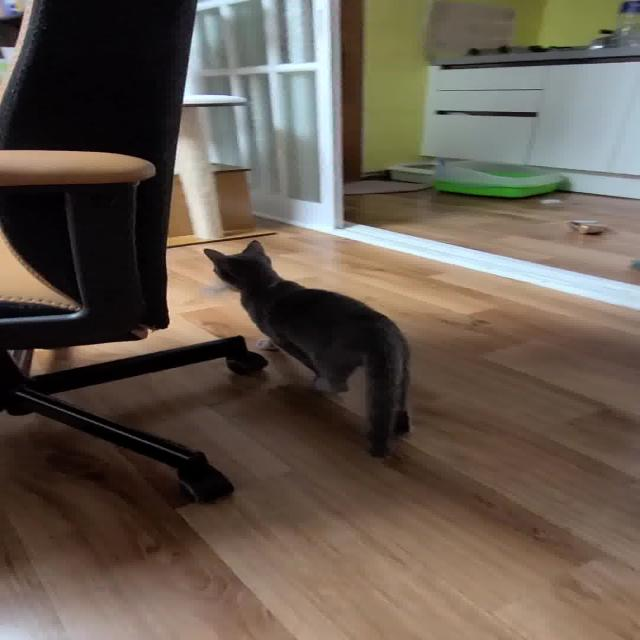cat: (156, 234, 462, 469)
